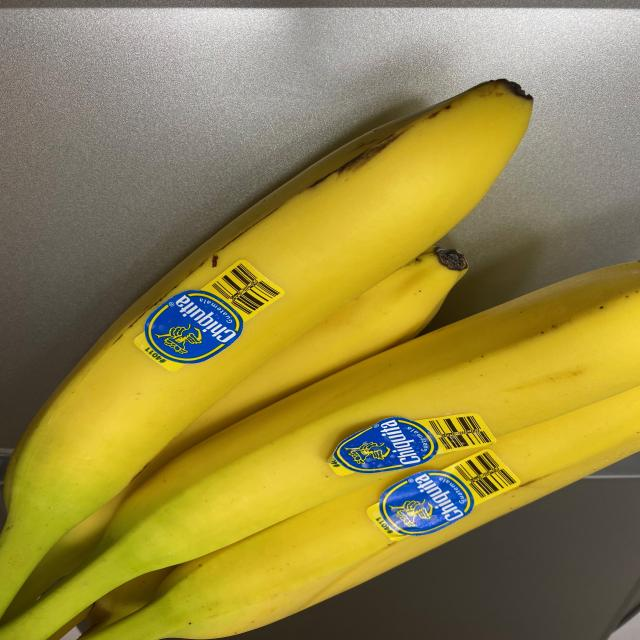banana: (4, 77, 632, 639)
